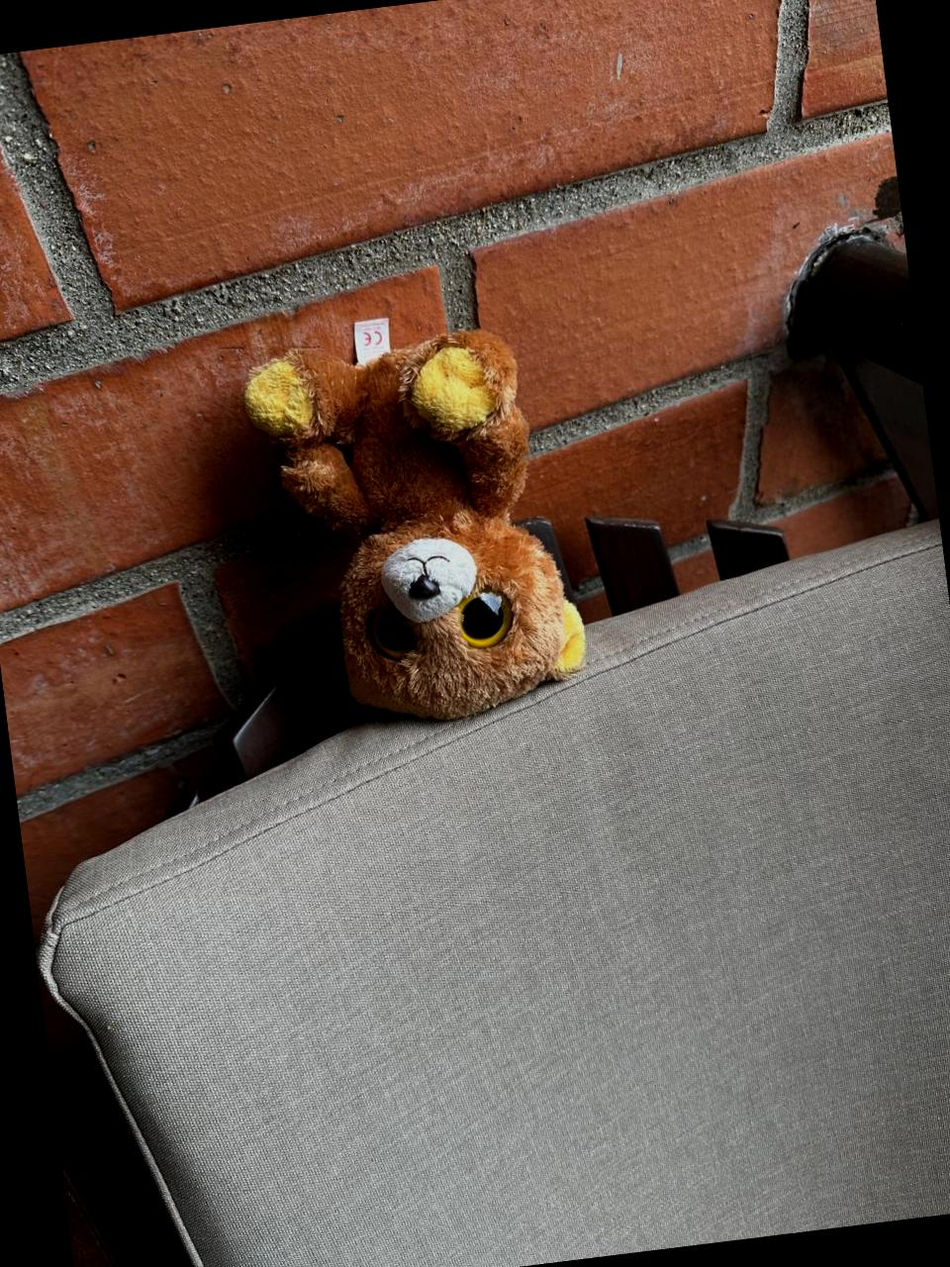peluche_sebastian: (226, 312, 608, 745)
